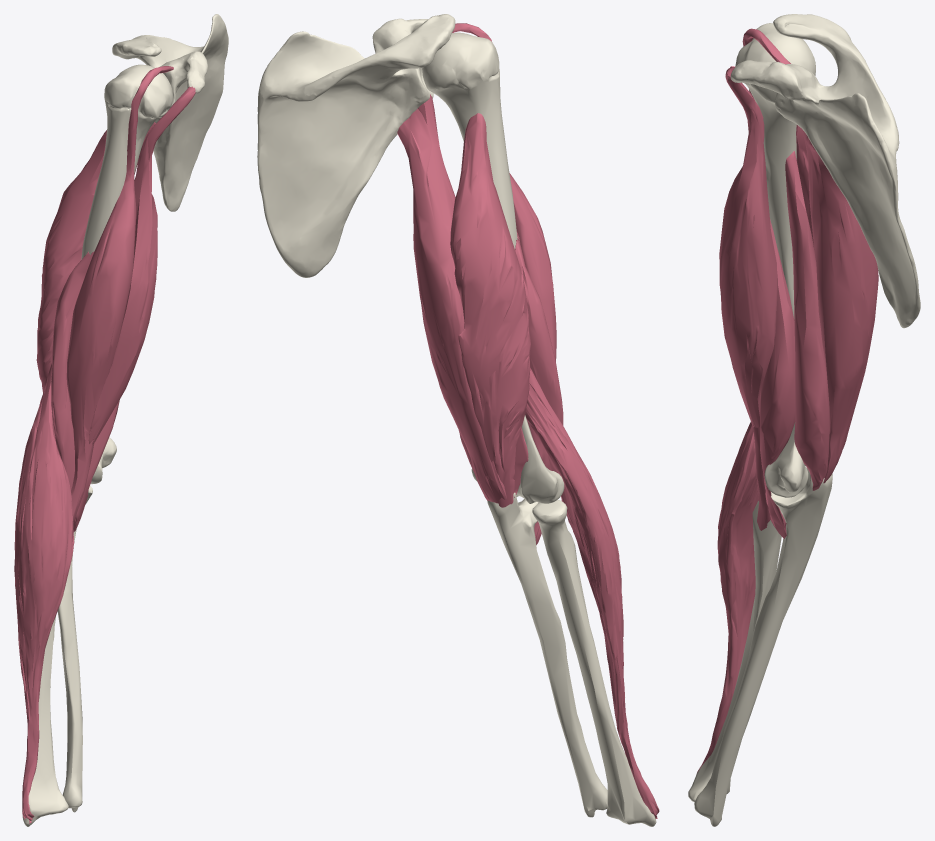
Rendered from arm.glb.
The picture shows the model from 3 angles, left to right: view 1: azimuth 30°, elevation 25°; view 2: azimuth 150°, elevation 25°; view 3: azimuth 270°, elevation 25°; orthographic projection. The views are drawn at different scales.
Parts seen in each view (by area): view 1: biceps-brachii, brachioradialis, scapula, humerus, triceps-brachii, brachialis, ulna, radius; view 2: triceps-brachii, scapula, brachioradialis, humerus, radius, ulna, biceps-brachii, brachialis; view 3: triceps-brachii, scapula, biceps-brachii, ulna, humerus, brachioradialis, brachialis, radius.
Boxes of the visible parts, <box> form: biceps-brachii: <box>66,66,195,522</box>; brachioradialis: <box>14,363,74,823</box>; scapula: <box>112,14,228,211</box>; humerus: <box>81,64,172,484</box>; triceps-brachii: <box>36,122,155,393</box>; brachialis: <box>51,251,119,531</box>; ulna: <box>57,485,92,812</box>; radius: <box>22,615,68,826</box>; triceps-brachii: <box>397,94,530,507</box>; scapula: <box>257,14,455,277</box>; brachioradialis: <box>525,368,659,818</box>; humerus: <box>422,32,564,503</box>; radius: <box>532,499,656,826</box>; ulna: <box>487,492,607,817</box>; biceps-brachii: <box>452,23,556,361</box>; brachialis: <box>515,230,563,544</box>; triceps-brachii: <box>785,125,878,490</box>; scapula: <box>730,14,920,328</box>; biceps-brachii: <box>719,28,790,530</box>; ulna: <box>694,467,832,826</box>; humerus: <box>735,23,815,497</box>; brachioradialis: <box>697,422,758,772</box>; brachialis: <box>760,219,795,538</box>; radius: <box>688,501,781,801</box>.
Size of the model in its own units: 0.2235 by 0.5447 by 0.132.
